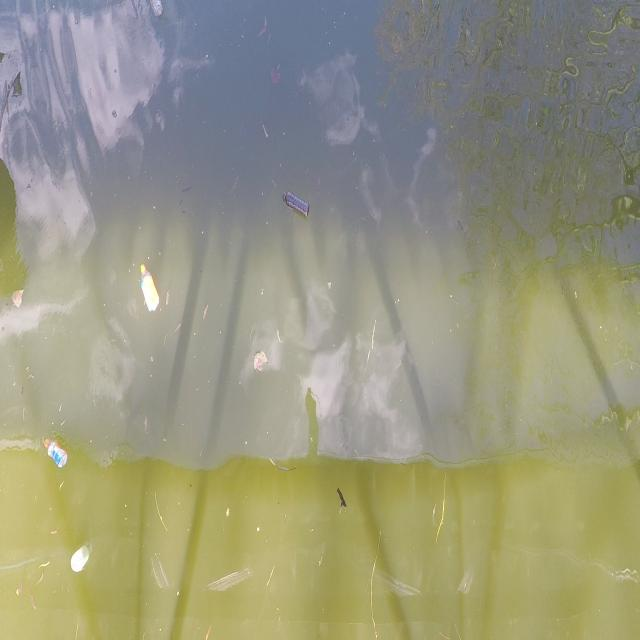Bouteille plastique: (134, 260, 160, 318), (278, 189, 313, 222), (40, 436, 68, 474)
